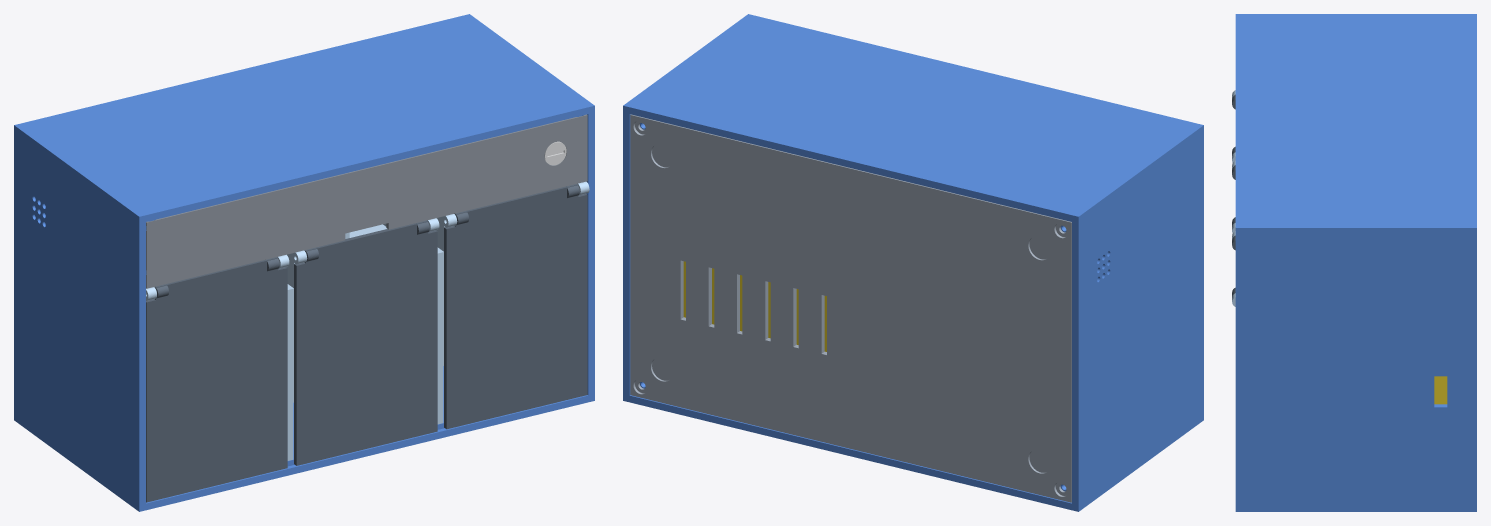
File: montagem.glb
3 renders of one model, left to right at view 1: azimuth 30°, elevation 25°; view 2: azimuth 150°, elevation 25°; view 3: azimuth 270°, elevation 25°, orthographic. The views are drawn at different scales.
Visible parts, largest first — view 1: corpo, tampa_2, tampa_3, tampa_1, tampa_tecnica, bandeja; view 2: fundo, corpo, componente_modulo_UPS_e_baterias; view 3: corpo, componente_conector_USB-C.
Boxes of the visible parts, box(x1,y1,x2,y2) form: corpo: box(14, 14, 594, 511); tampa_2: box(294, 220, 437, 465); tampa_3: box(444, 184, 587, 429); tampa_1: box(146, 257, 287, 502); tampa_tecnica: box(146, 114, 587, 288); bandeja: box(146, 181, 589, 460); fundo: box(630, 114, 1071, 502); corpo: box(623, 14, 1203, 511); componente_modulo_UPS_e_baterias: box(683, 261, 826, 351); corpo: box(1235, 14, 1476, 511); componente_conector_USB-C: box(1434, 376, 1446, 403).
Bounding box in the file's own units: 210 × 130 × 102.
